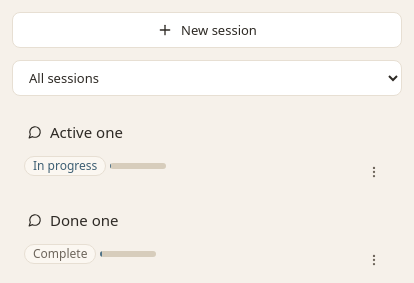
Sessions › shows status pills and filters the list by status
Expected: the button "Active one" is shown, [16, 112, 398, 152]
Expected: the button "Done one" is shown, [16, 200, 398, 240]
Note: Filter to Complete (via the status Select) → the in-progress session drops out.
Select "Complete" in the dropdown named "Filter sessions by status". click: (207, 78)
box: [12, 60, 402, 96]
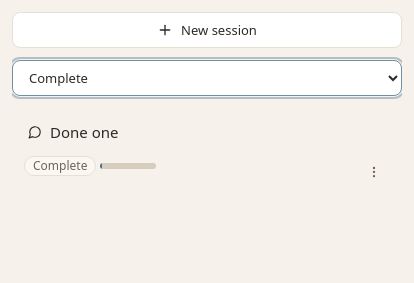
Expected: the button "Done one" is shown, [16, 112, 398, 152]
Expected: the button "Active one" is gone
